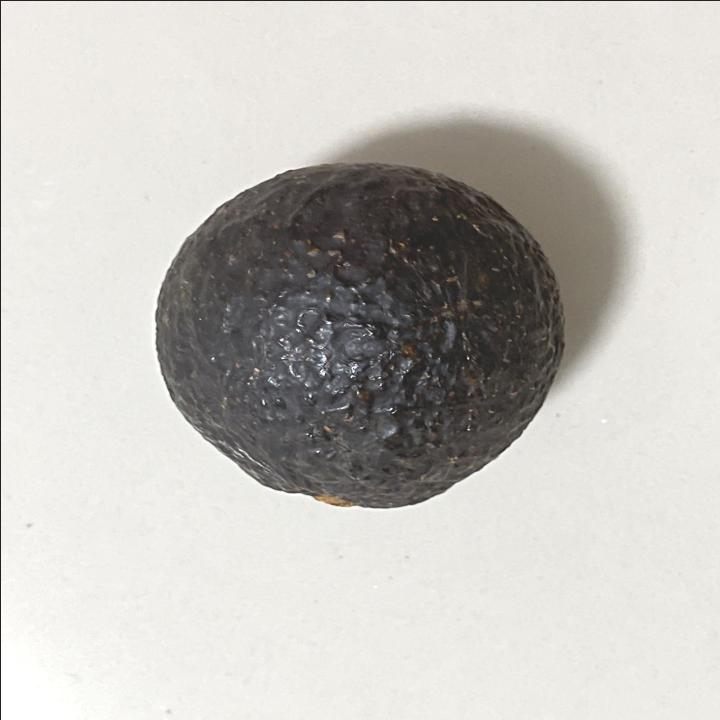Level3: (142, 154, 570, 520)
